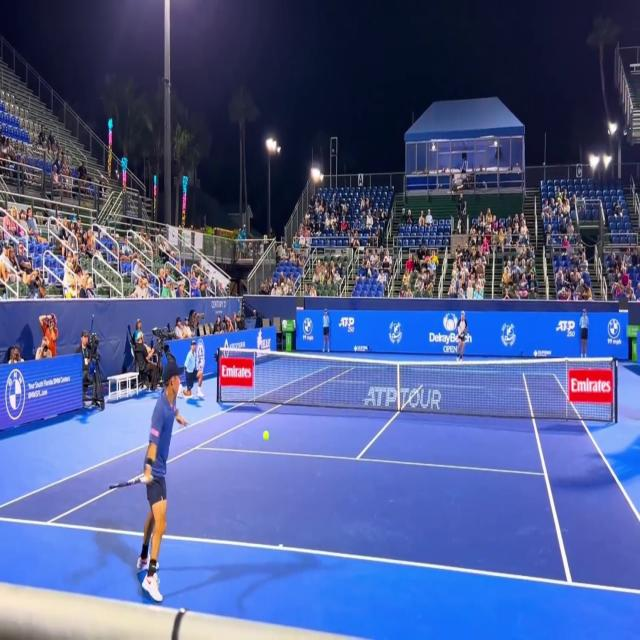tennisBall: (262, 426, 270, 447)
